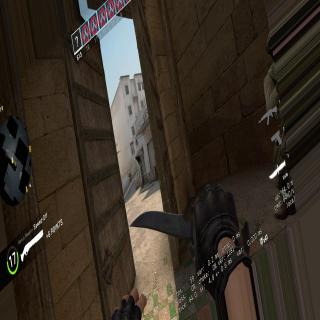CT-Body: (128, 172, 132, 182)
CT-Head: (128, 173, 130, 175)
